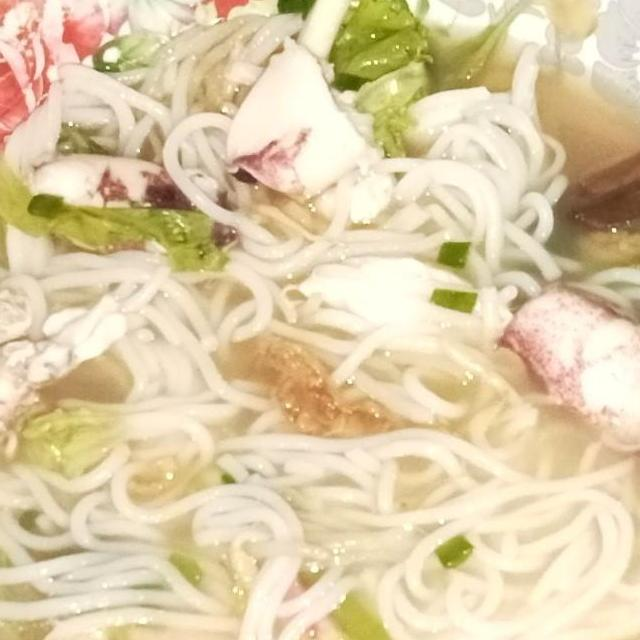bun: (227, 409, 640, 640), (0, 417, 300, 640), (86, 242, 310, 494), (0, 0, 308, 179), (390, 32, 588, 305), (576, 247, 640, 453)
muc: (215, 24, 408, 230), (489, 278, 640, 481), (10, 153, 248, 269), (0, 273, 88, 484)
